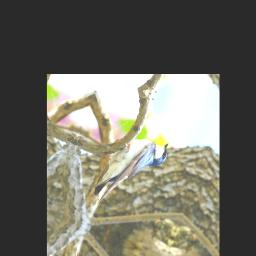Swallow: (83, 121, 172, 223)
